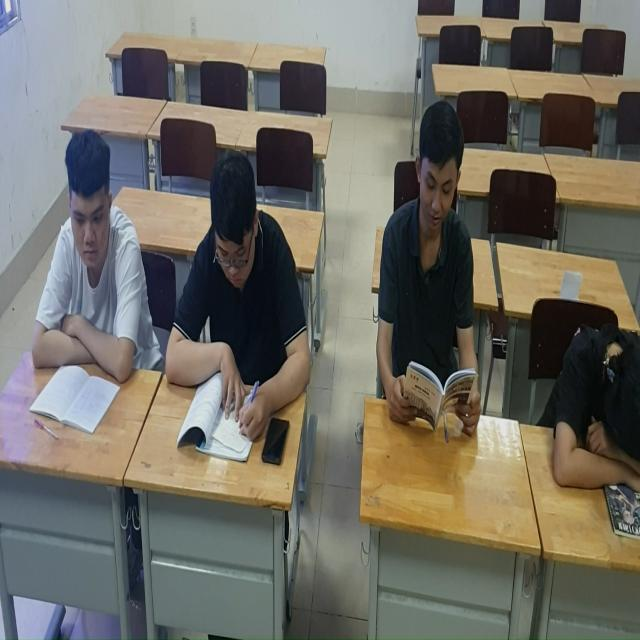read: (152, 139, 312, 457), (359, 86, 487, 470), (25, 94, 146, 428)
sleep: (541, 295, 640, 524)
